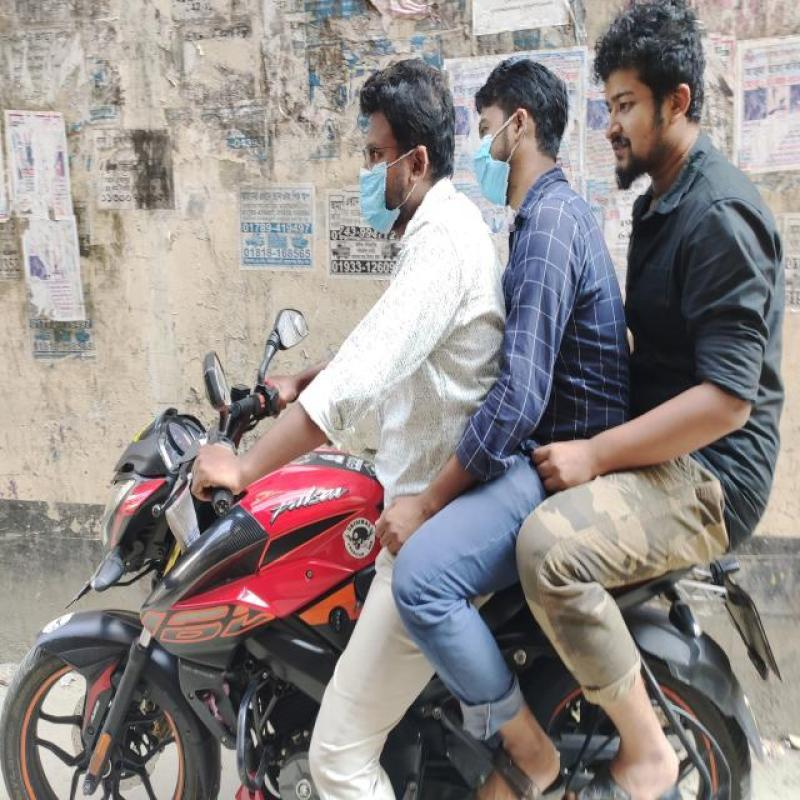nohelmet: (589, 21, 727, 196), (342, 66, 452, 245), (464, 57, 571, 233)
